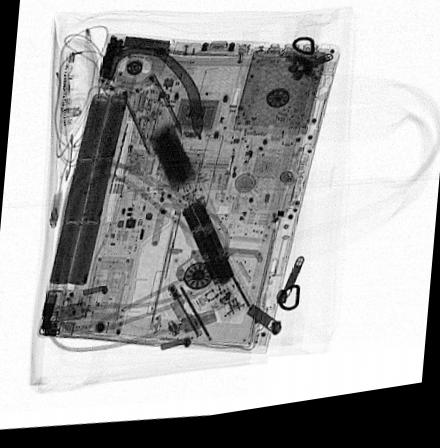Baton: (118, 75, 253, 330)
